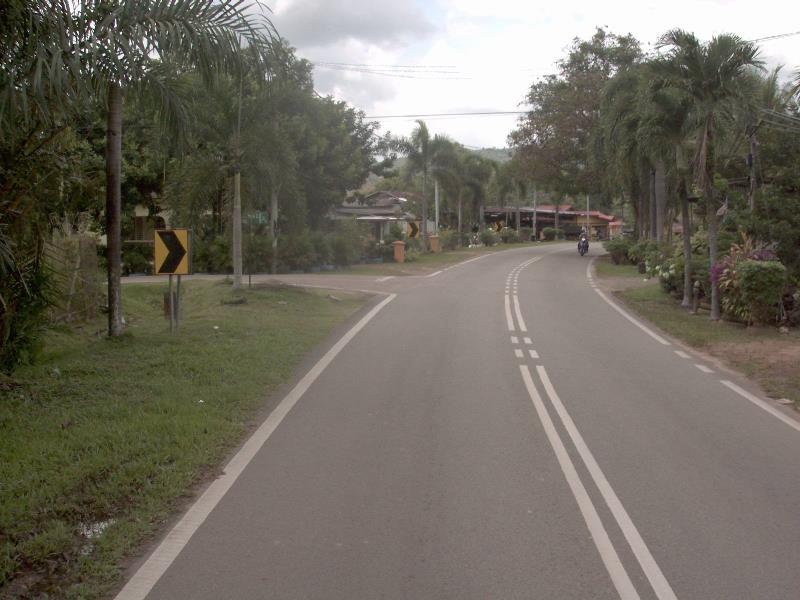traffic_sign: (144, 220, 197, 284)
